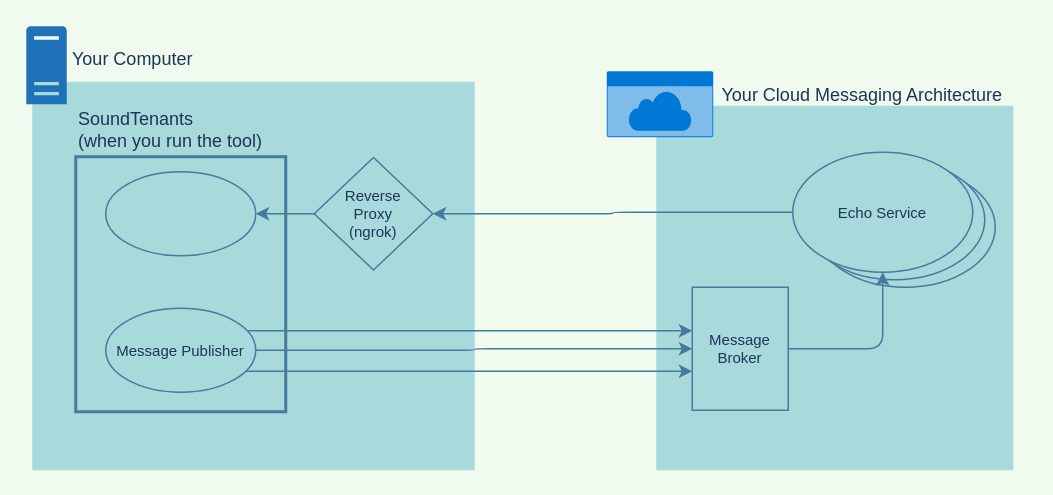
Image size: 1053x495. Some labels were removed from this diagram. The shapes that lost their labels are listed below. From the top down, each one's centre as x and y in pixels, then its label:
At [659,103]: "Cloud".
At [180,213]: "Aggregator Server (localhost:8080)".
